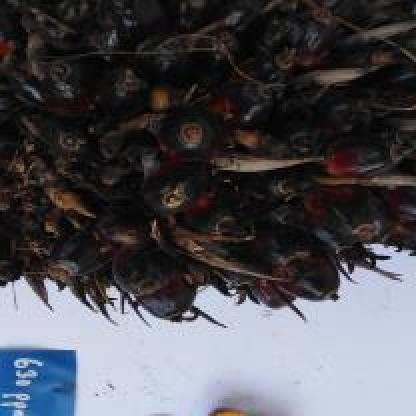Unripe: (0, 0, 416, 324)
